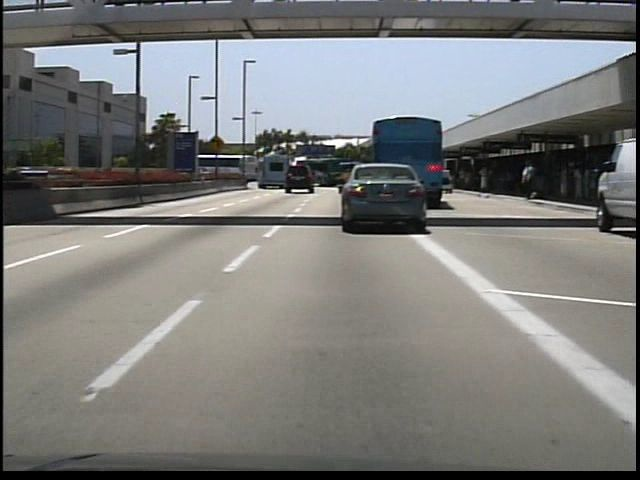person: (520, 158, 538, 203)
